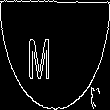M_N: (43, 28, 67, 82)
